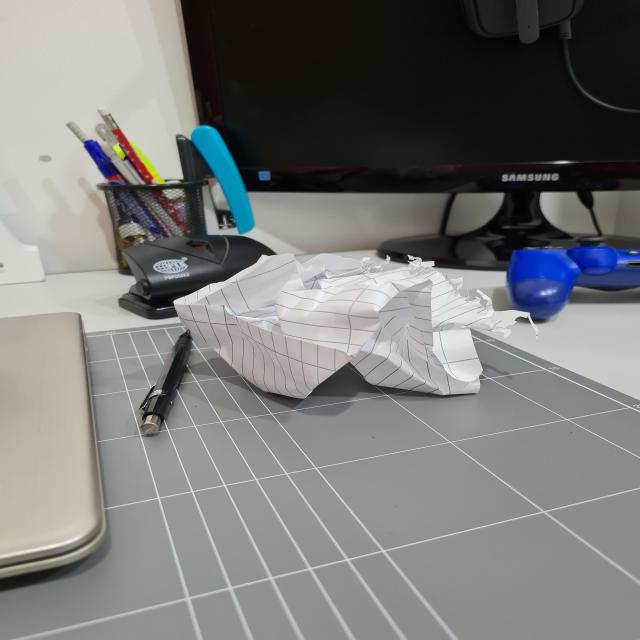paper: (174, 261, 515, 399)
